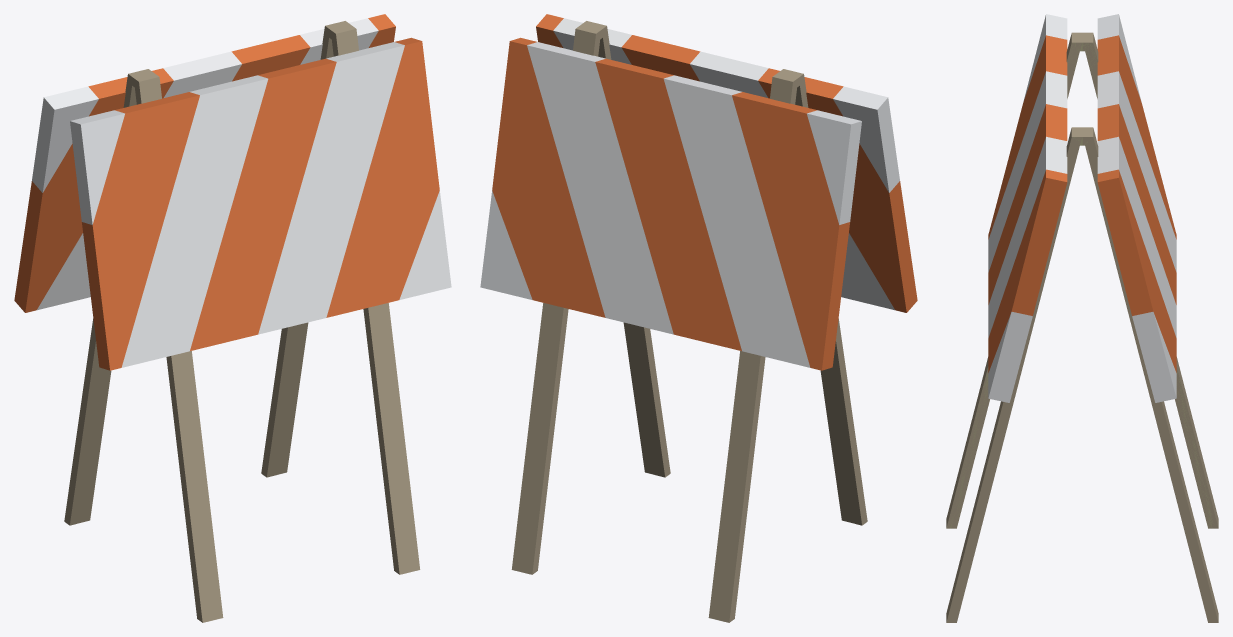
File: Wood_Road_Block_XSmall_002.glb
The picture shows the model from 3 angles, left to right: view 1: azimuth 30°, elevation 25°; view 2: azimuth 150°, elevation 25°; view 3: azimuth 270°, elevation 25°; orthographic projection.
Parts seen in each view (by area): view 1: Wood Road Block XSmall.002; view 2: Wood Road Block XSmall.002; view 3: Wood Road Block XSmall.002.
Part boxes in pixels (bbox=[...]): Wood Road Block XSmall.002: bbox=[14, 14, 451, 622]; Wood Road Block XSmall.002: bbox=[480, 14, 917, 622]; Wood Road Block XSmall.002: bbox=[946, 14, 1218, 622].
Size of the model in its own units: 4.25 by 5.88 by 2.99.
1 material, 1 textured.
